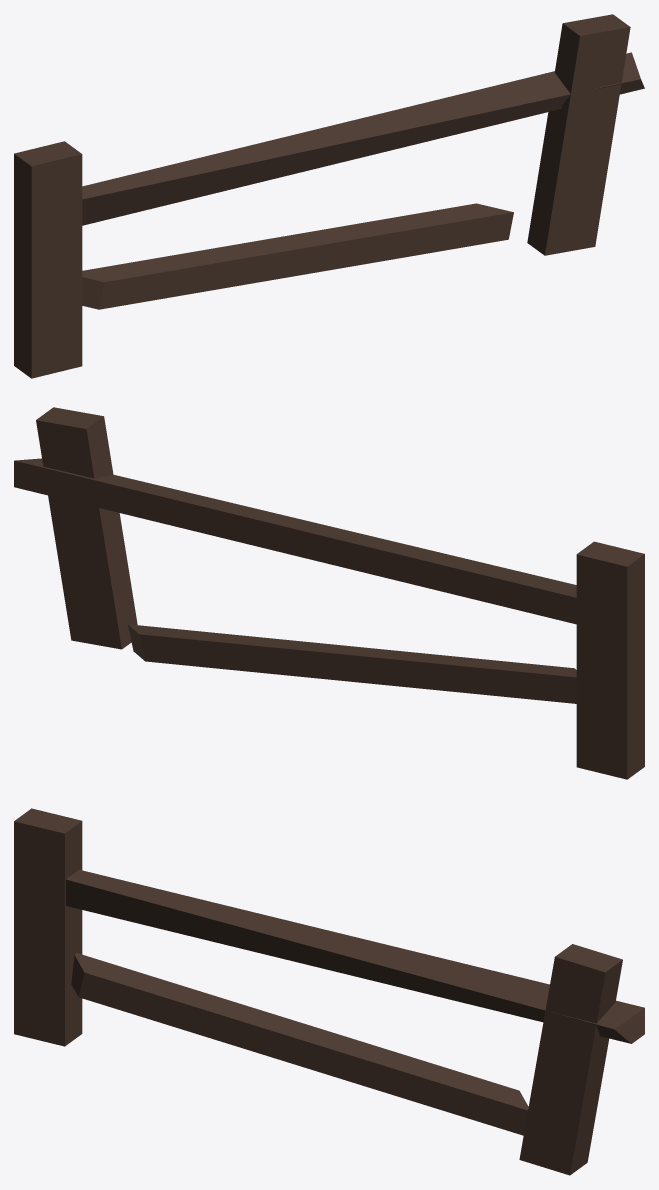
The model's file is broken_fence_01.glb.
3 views of the same model, one above another, from view 1: azimuth 30°, elevation 25°; view 2: azimuth 150°, elevation 25°; view 3: azimuth 330°, elevation 25° (orthographic).
Parts seen in each view (by area): view 1: broken_fence_01; view 2: broken_fence_01; view 3: broken_fence_01.
Boxes of the visible parts, bbox=[...] form: broken_fence_01: bbox=[14, 14, 644, 378]; broken_fence_01: bbox=[14, 407, 644, 779]; broken_fence_01: bbox=[14, 808, 644, 1175].
Size of the model in its own units: 1.21 by 0.4041 by 0.1198.
